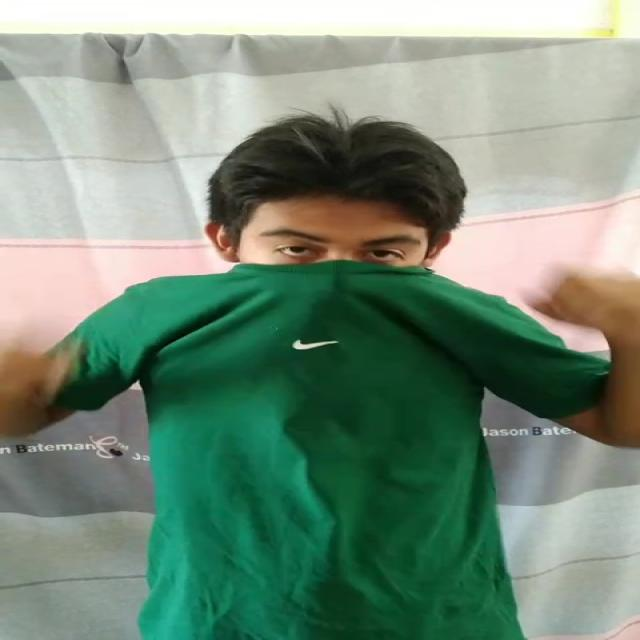8_ropa_rostro: (198, 254, 470, 359)
